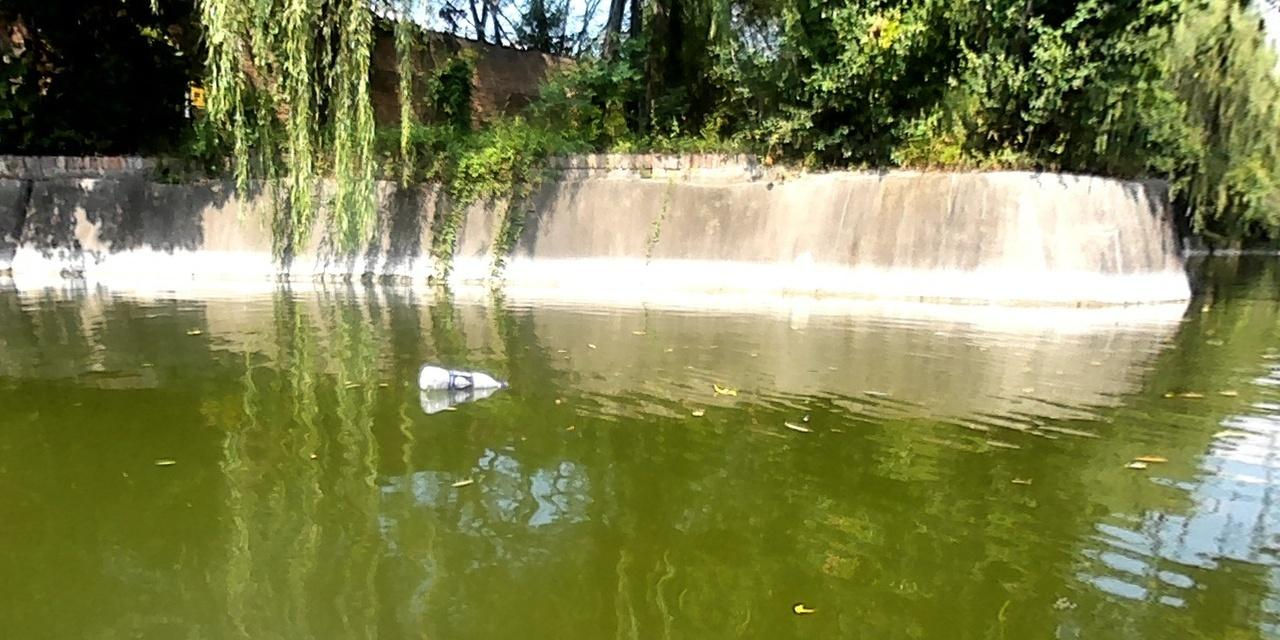bottle: (415, 362, 508, 390)
